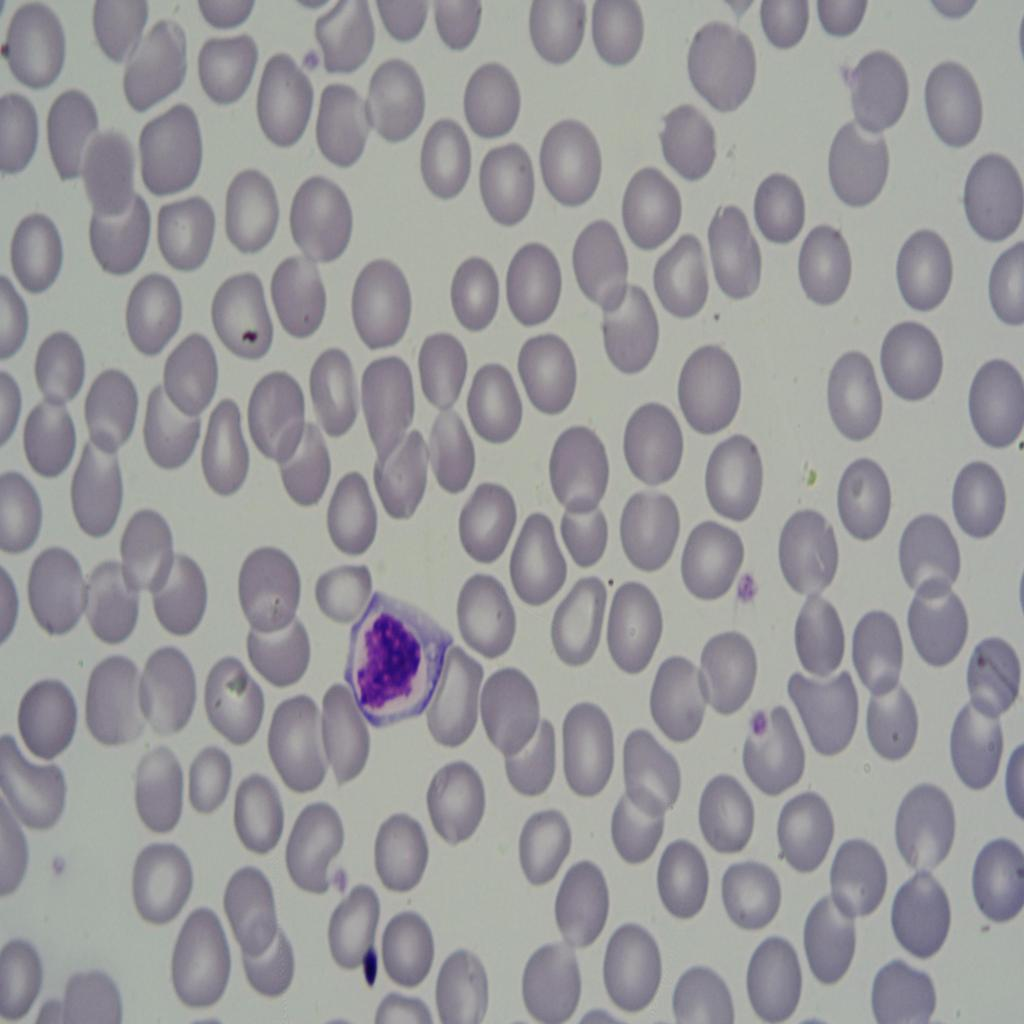Myeoblast: (340, 594, 447, 733)
Platelet: (741, 700, 782, 753), (360, 935, 386, 995), (729, 564, 759, 611), (294, 39, 323, 82)
